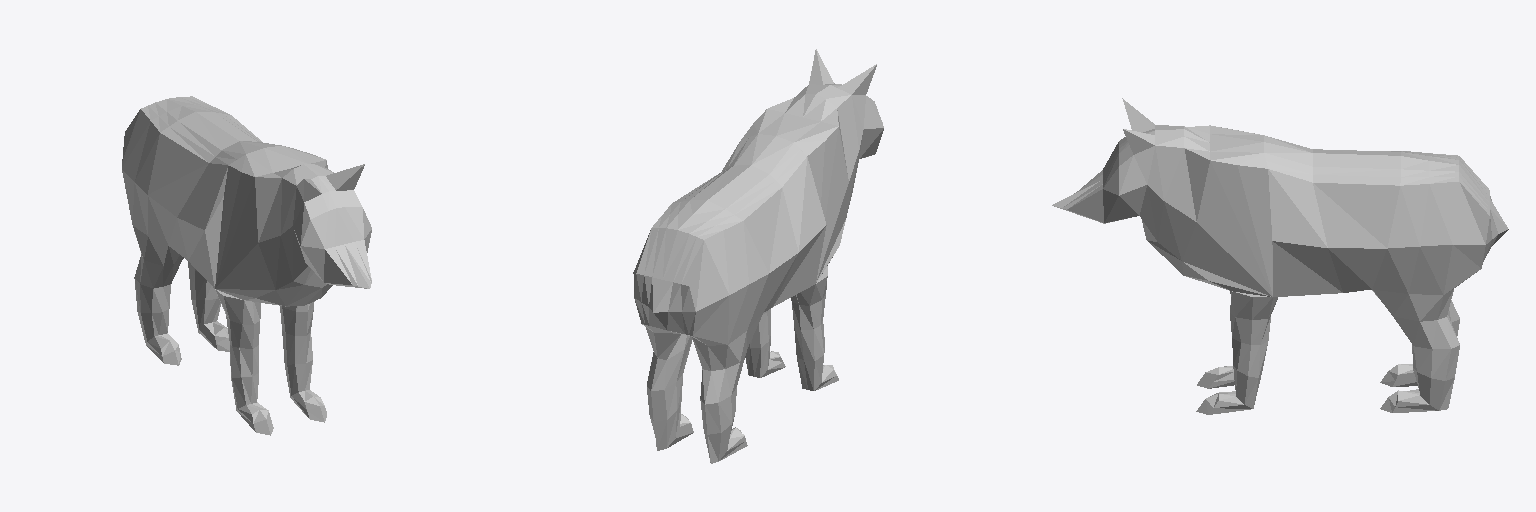
The model's file is piesblendtex_000038.obj.
3 views of the same model, side by side, from view 1: azimuth 30°, elevation 25°; view 2: azimuth 150°, elevation 25°; view 3: azimuth 270°, elevation 25° (orthographic).
Visible parts, largest first — view 1: Cube; view 2: Cube; view 3: Cube.
Part boxes in pixels (x1,y1,x2,y2): Cube: (122, 96, 371, 435); Cube: (633, 49, 883, 463); Cube: (1052, 98, 1508, 414).
Size of the model in its own units: 2.56 by 6.35 by 9.24.